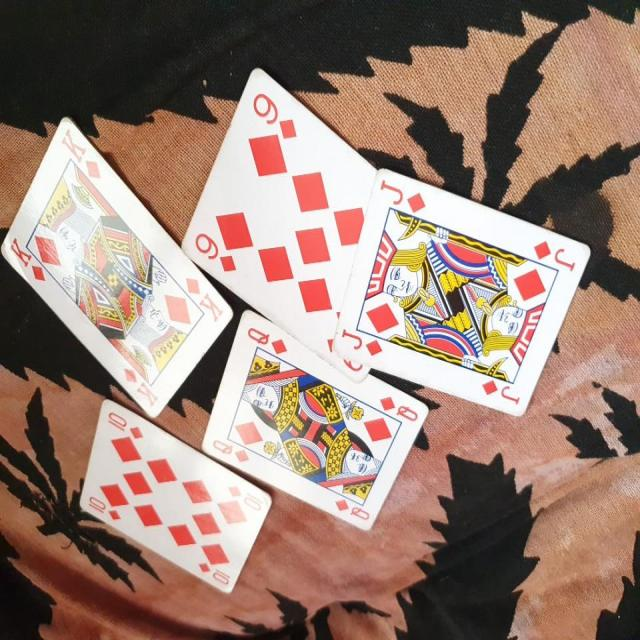10 Diamonds: (77, 396, 273, 594)
9 Diamonds: (180, 66, 372, 384)
J Diamonds: (330, 168, 592, 415)
K Diamonds: (1, 115, 234, 421)
Q Diamonds: (200, 308, 429, 534)
